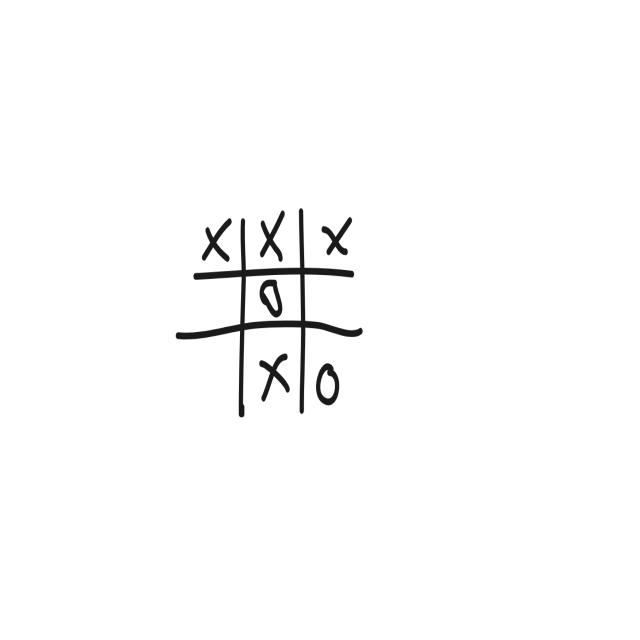O: (310, 346, 350, 411), (252, 276, 294, 318)
X: (250, 341, 295, 410), (197, 212, 237, 274), (315, 210, 358, 266), (254, 206, 288, 264)
grid: (182, 203, 373, 432)
